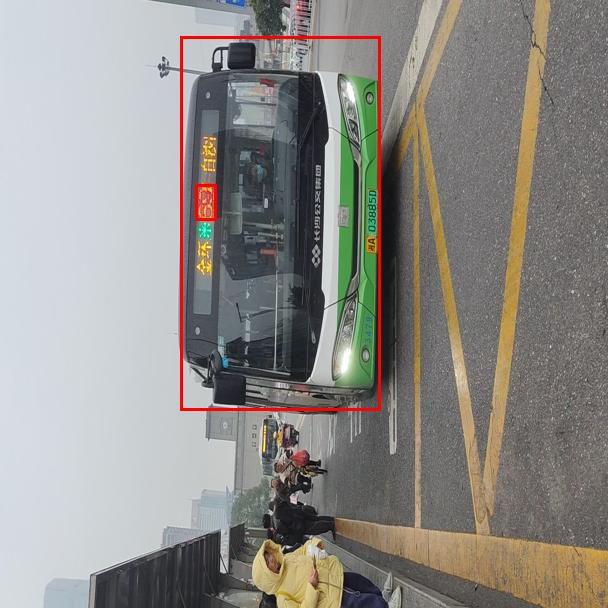bus: (180, 36, 380, 410)
screen: (195, 184, 216, 220)
